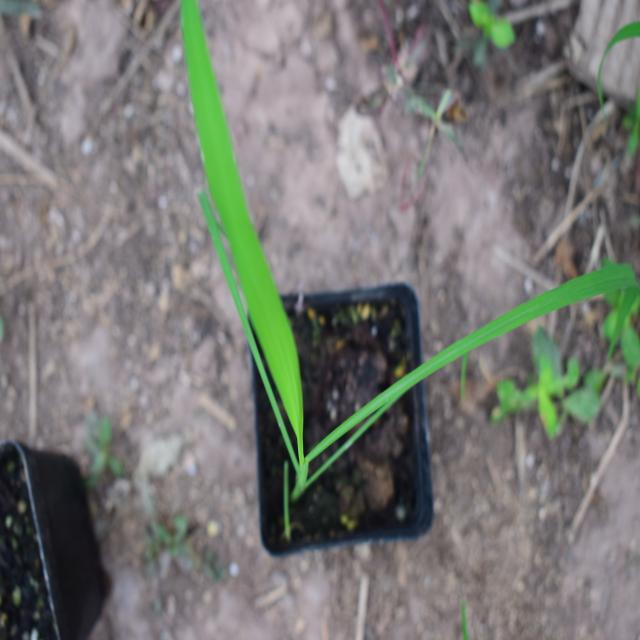barnyard_grass: (152, 23, 609, 483)
